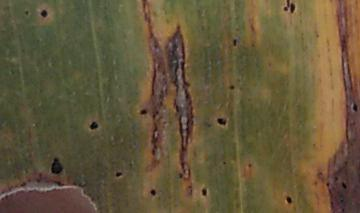tarspot: (50, 156, 63, 175), (88, 119, 98, 130), (217, 117, 227, 127), (39, 8, 48, 19), (231, 36, 238, 48), (290, 2, 297, 14), (351, 102, 358, 113), (149, 188, 157, 197), (114, 171, 124, 178), (201, 187, 208, 197), (286, 195, 292, 205), (138, 108, 146, 115), (228, 84, 236, 91), (342, 181, 348, 190), (284, 1, 291, 8), (334, 174, 339, 183), (24, 9, 30, 16), (282, 7, 289, 13), (178, 172, 184, 179), (247, 161, 252, 168), (222, 159, 227, 166), (326, 181, 331, 188)
